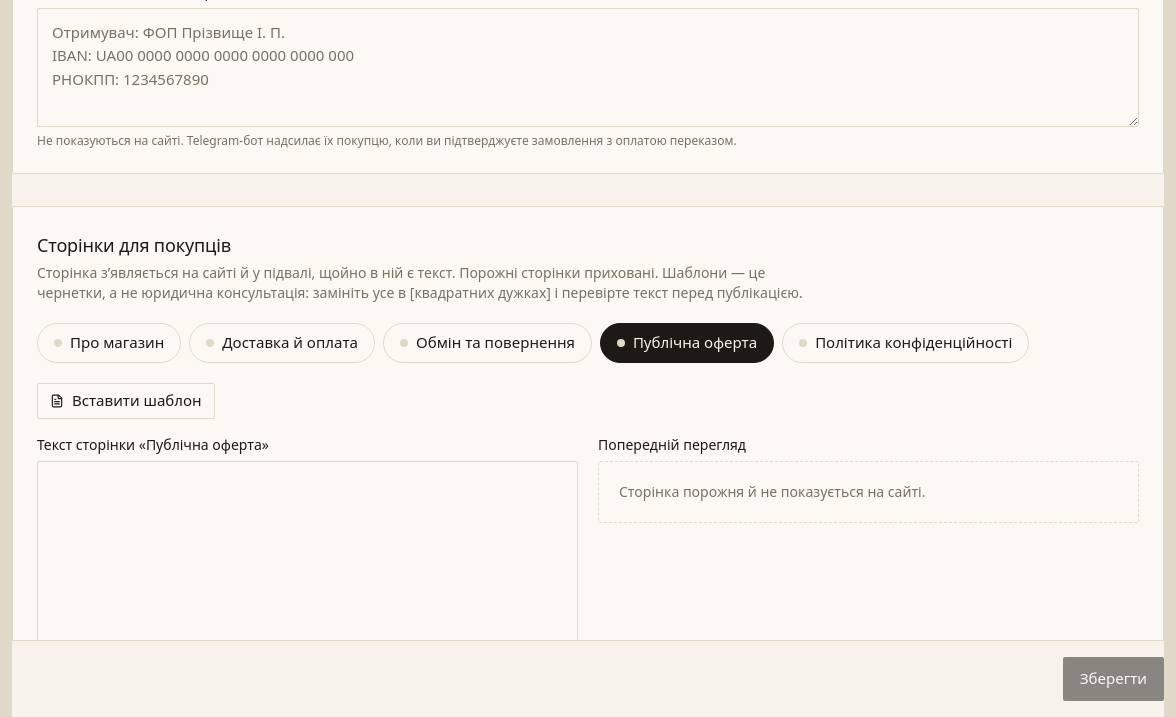
AdminStoreInfoEditor › inserts a template and counts the placeholders left to fill
This screenshot has width=1176, height=717.
(page scrolled)
Click the button "Вставити шаблон" at (126, 401), box [37,383,215,419]
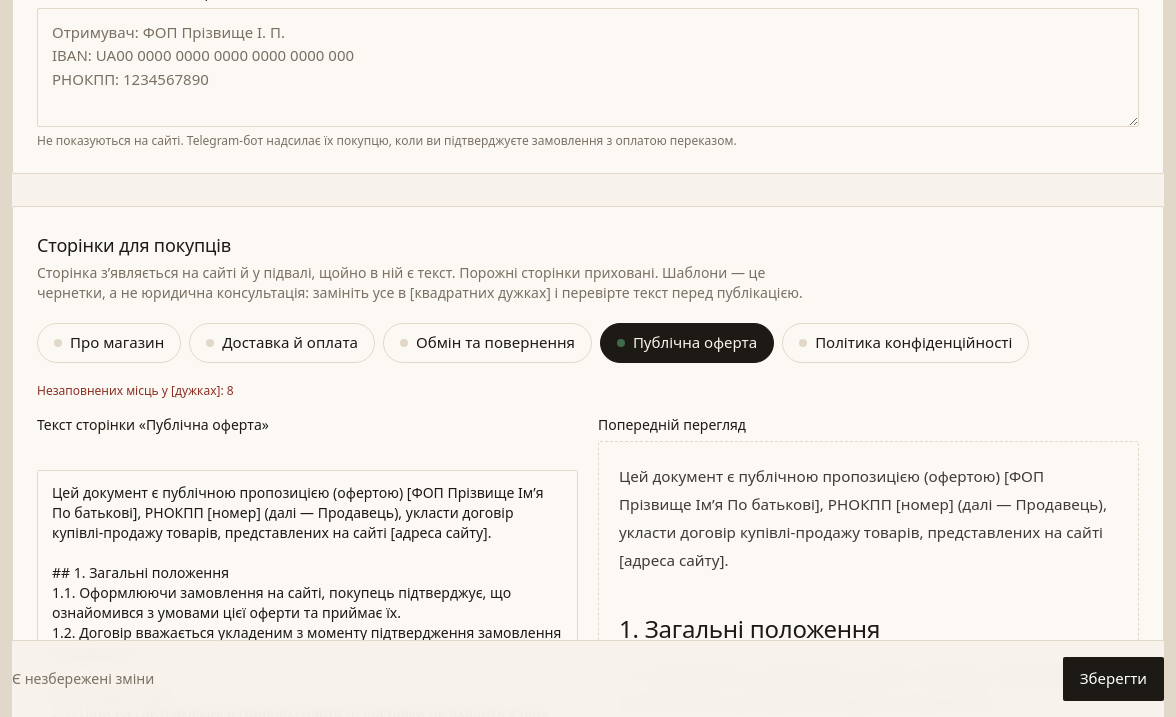
Now the text "Незаповнених місць у [дужках]: 8" is shown, box [37,383,234,399]
Now the button "Вставити шаблон" is gone
